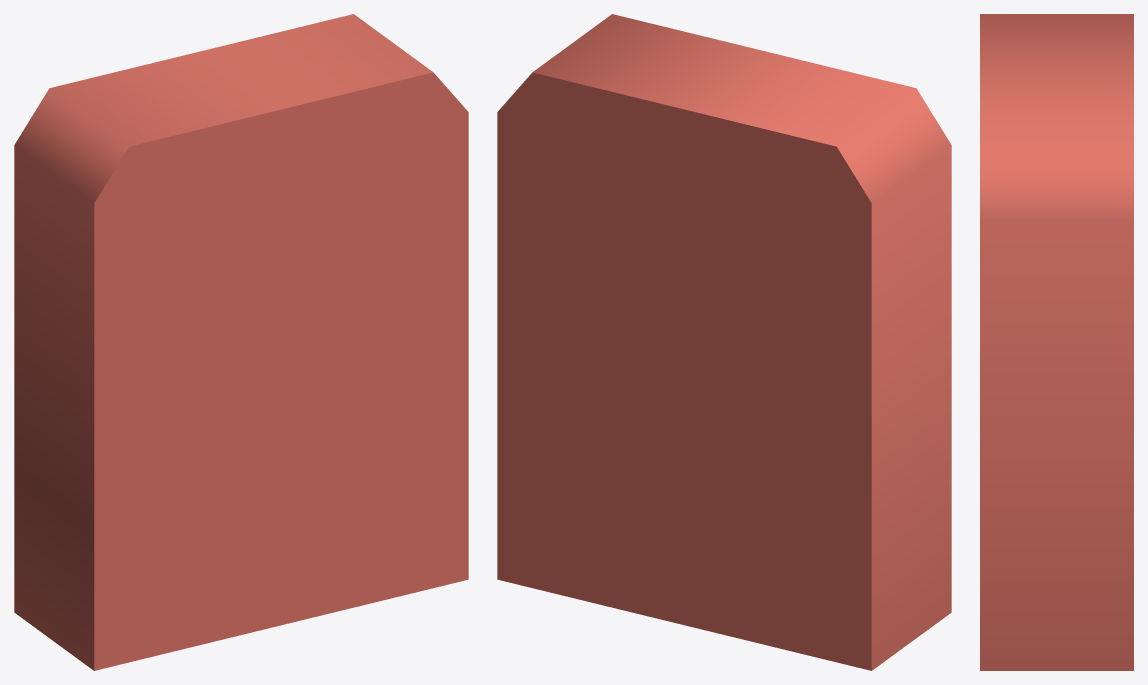
3 views of the same model, side by side, from view 1: azimuth 30°, elevation 25°; view 2: azimuth 150°, elevation 25°; view 3: azimuth 270°, elevation 25° (orthographic). The views are drawn at different scales.
Parts seen in each view (by area): view 1: Cube.001; view 2: Cube.001; view 3: Cube.001.
Part boxes in pixels (x1,y1,x2,y2): Cube.001: (14,14,468,670); Cube.001: (497,14,951,670); Cube.001: (980,14,1133,670).
Size of the model in its own units: 180 by 236 by 66.28.
